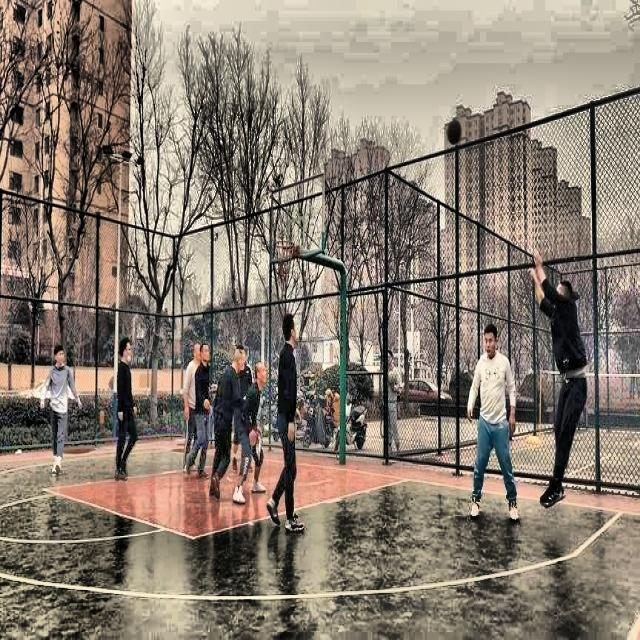board: (446, 118, 461, 144)
